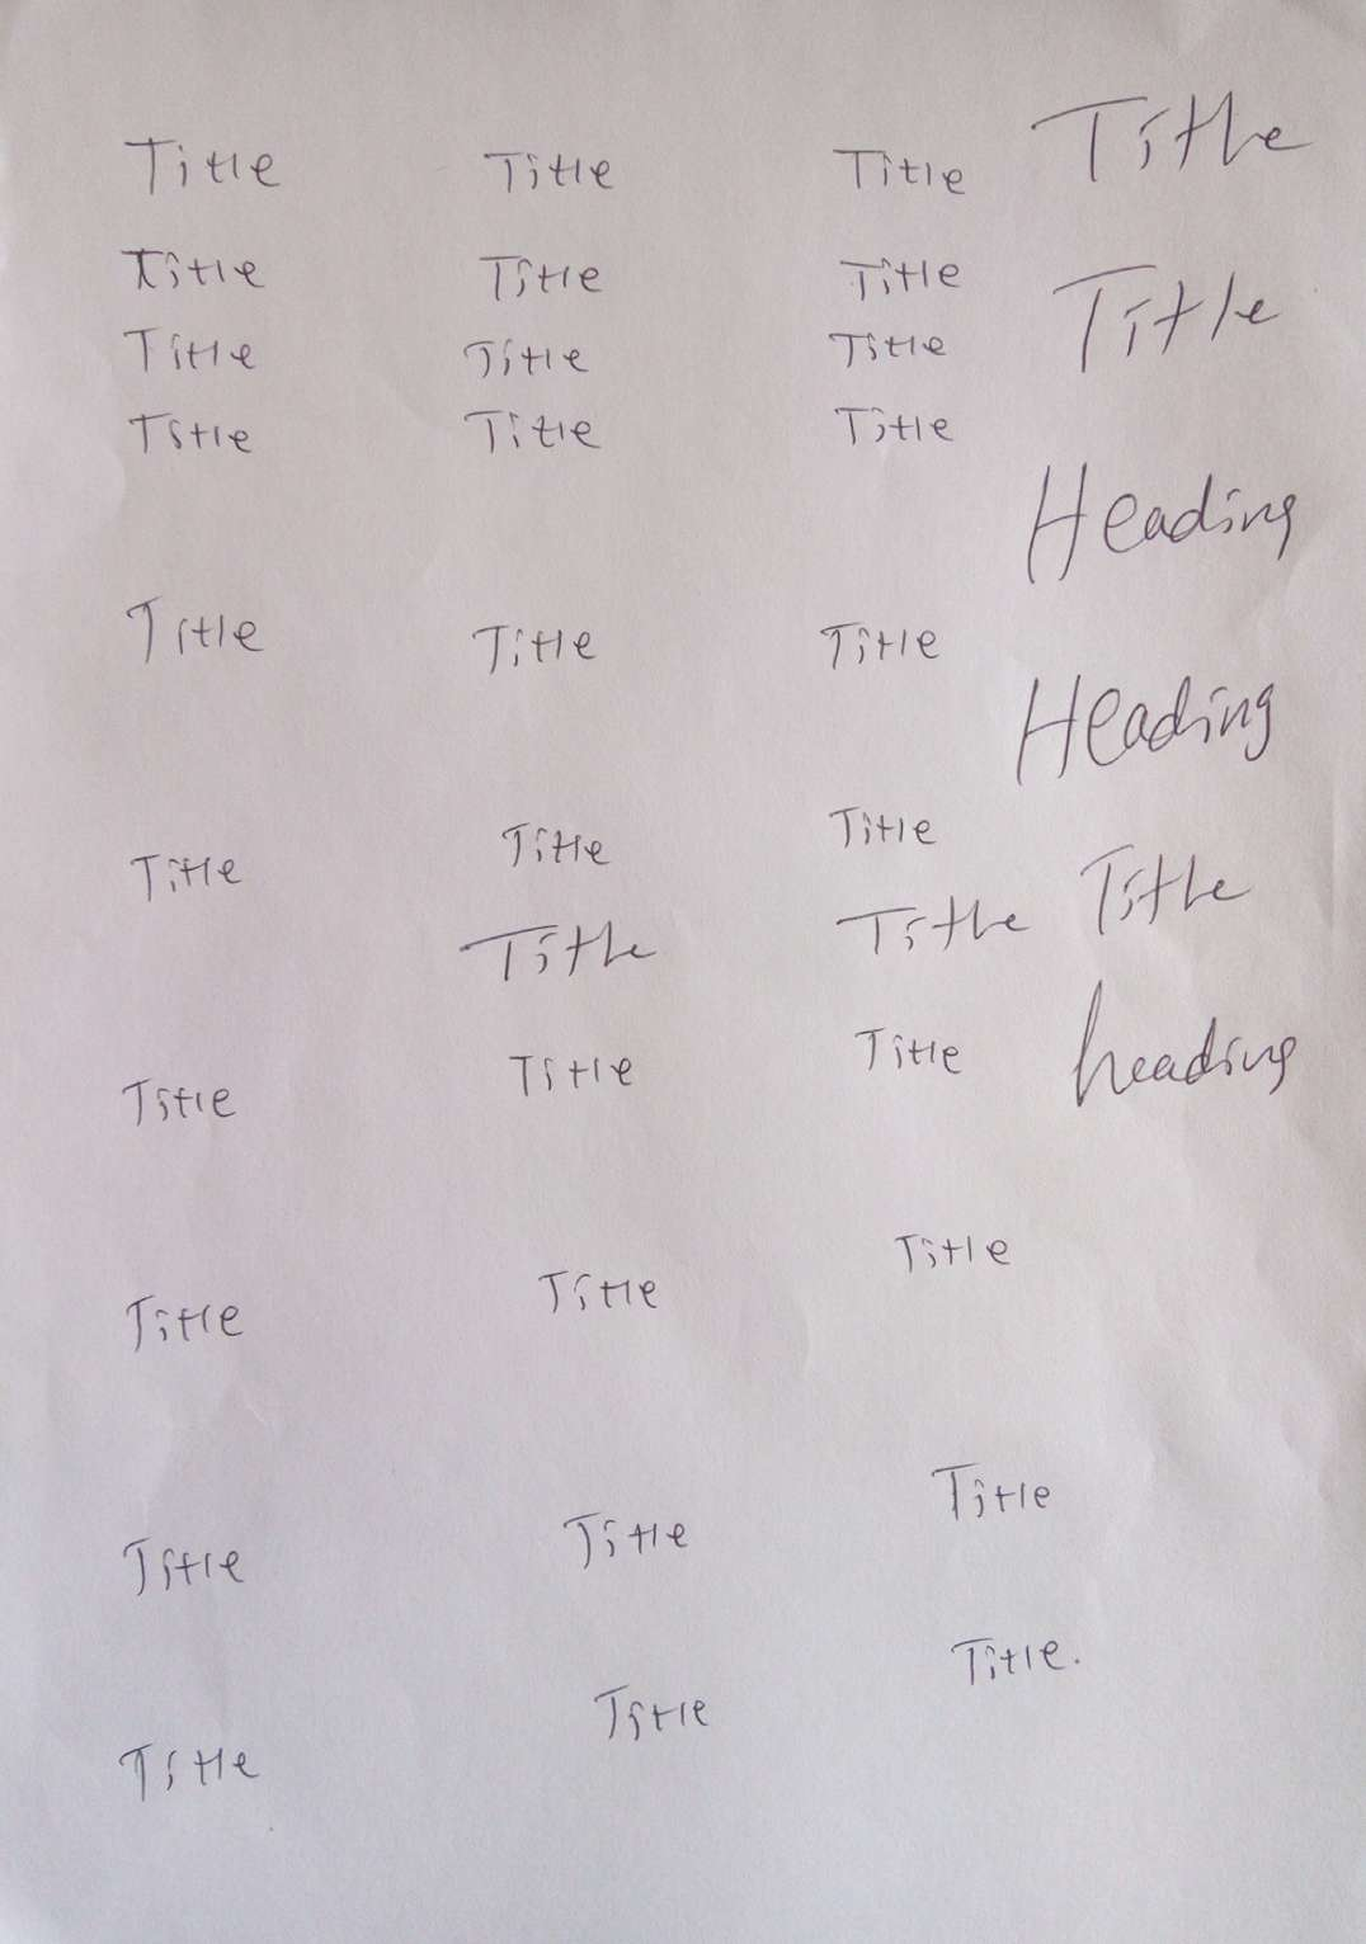Heading: (1024, 458, 1297, 587), (1067, 976, 1301, 1113), (1010, 673, 1282, 788), (1026, 81, 1319, 185), (1044, 259, 1291, 377), (1076, 840, 1260, 942), (454, 918, 662, 988), (832, 893, 1036, 956), (121, 130, 279, 198), (123, 593, 266, 667), (112, 1736, 259, 1805), (117, 1530, 247, 1603), (118, 1288, 245, 1359), (114, 242, 262, 302), (117, 319, 257, 381), (924, 1458, 1057, 1523), (466, 616, 602, 680), (560, 1502, 687, 1570), (455, 402, 605, 460), (826, 142, 968, 203), (500, 1044, 639, 1104), (585, 1678, 714, 1741), (114, 1070, 237, 1135), (847, 1022, 965, 1087), (480, 143, 616, 200), (812, 615, 942, 673), (834, 250, 962, 307), (532, 1265, 670, 1319), (469, 250, 602, 303), (497, 815, 614, 875), (887, 1226, 1022, 1277), (121, 408, 254, 460), (458, 333, 591, 383), (124, 849, 248, 902), (822, 325, 948, 375), (829, 401, 954, 448), (946, 1635, 1064, 1682), (826, 803, 936, 850)
